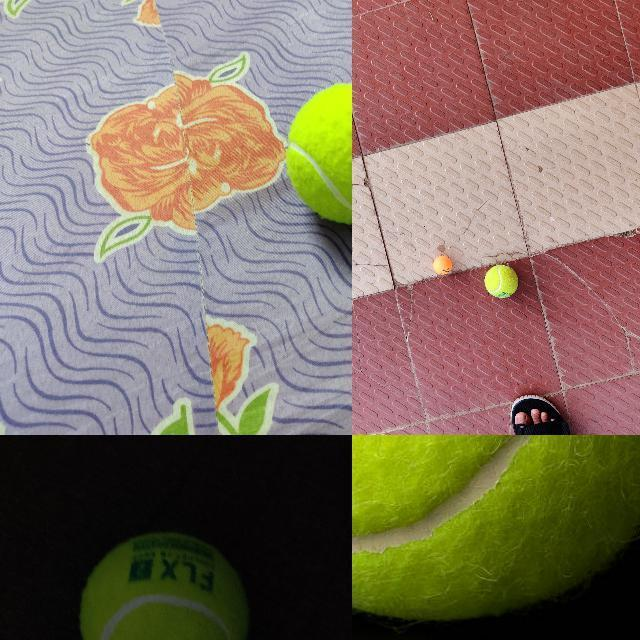tennis-ball: (352, 435, 639, 622), (78, 532, 250, 639), (286, 80, 351, 224), (484, 265, 518, 298)
